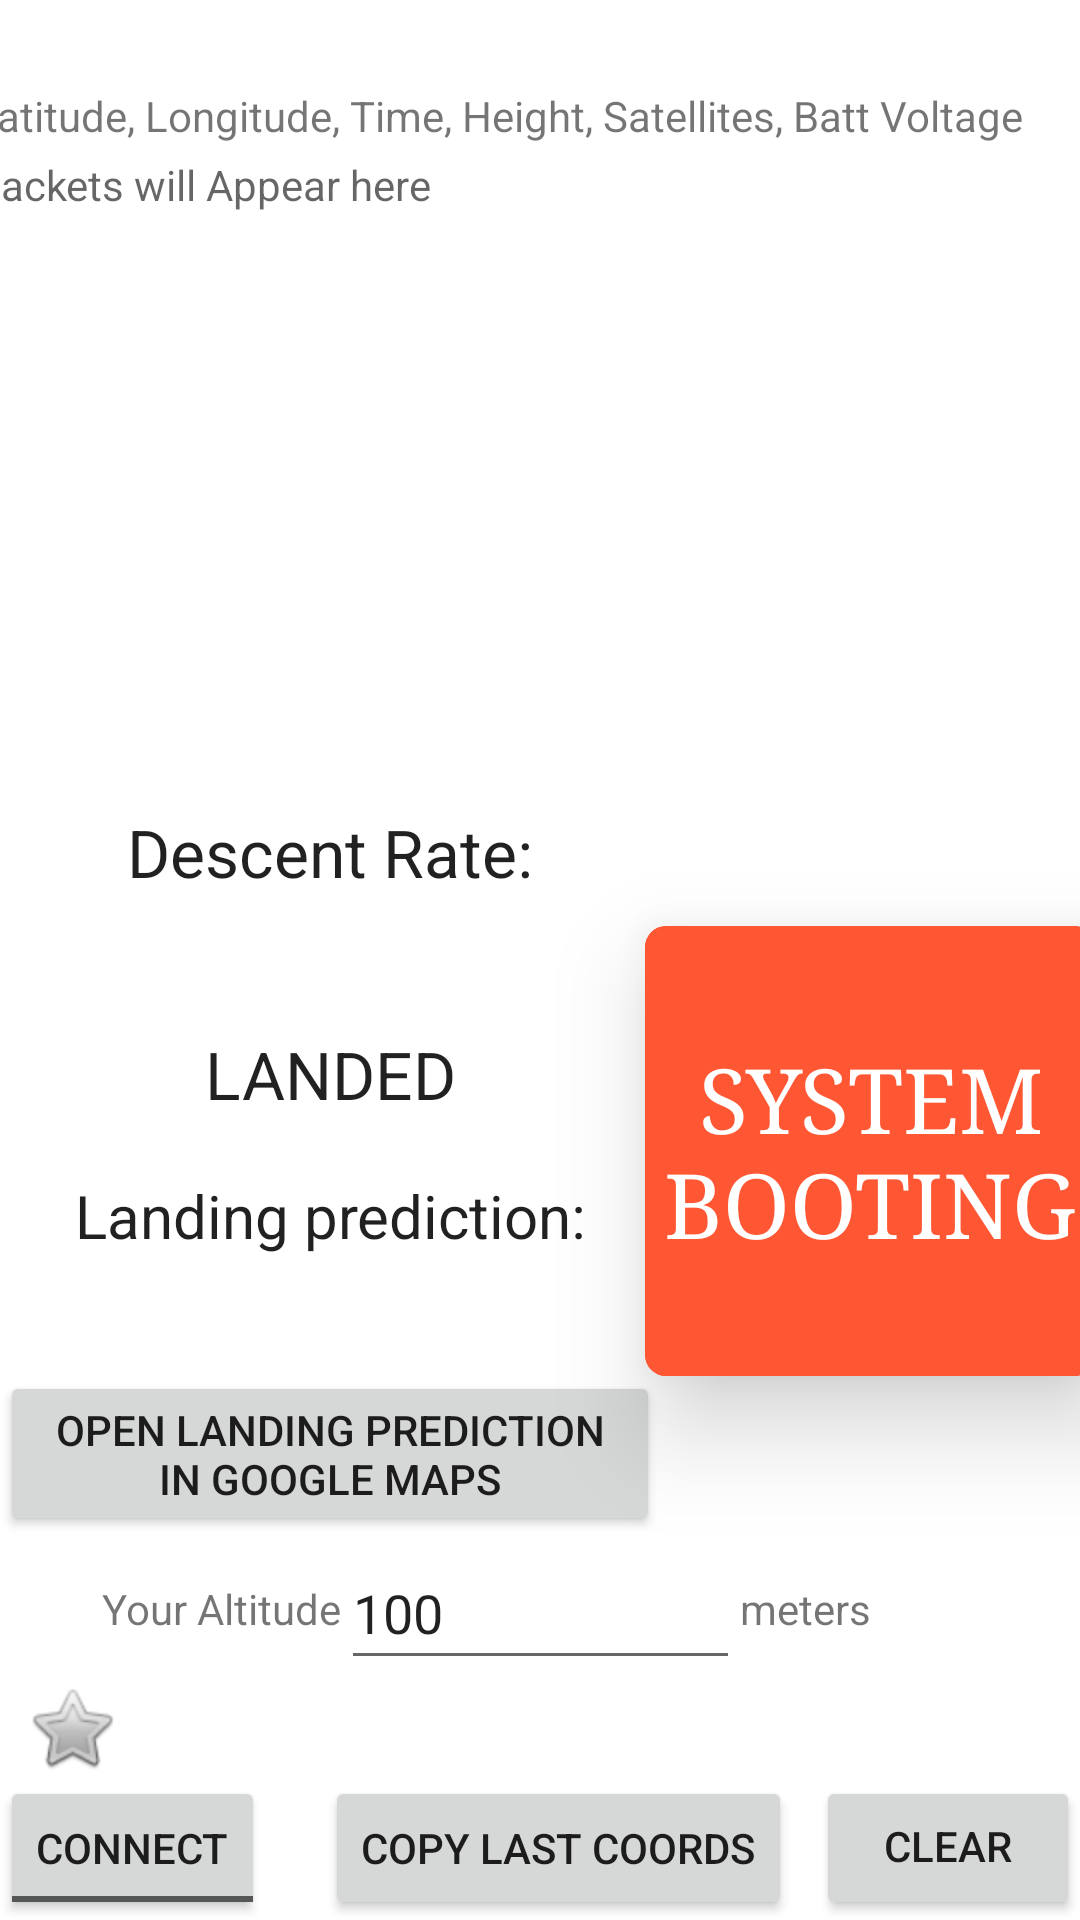

Named icons in this screenshot (1080px×1920px) and their bounding boxes, (x1, y1, x2, y2):
Star Off: (33, 1690, 113, 1768)
